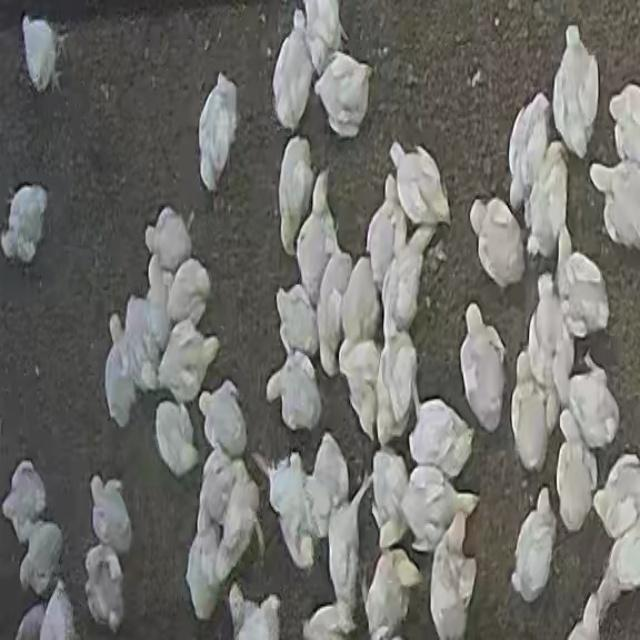chicken: (264, 450, 320, 568), (554, 25, 600, 156), (458, 304, 504, 434), (428, 510, 474, 640), (398, 465, 463, 554), (154, 316, 218, 406), (324, 479, 364, 622), (196, 69, 241, 195), (406, 397, 472, 482), (380, 227, 432, 333), (389, 140, 450, 230), (214, 465, 260, 583), (295, 168, 338, 294), (565, 351, 619, 451), (362, 547, 419, 640), (512, 487, 557, 602), (554, 408, 595, 532), (316, 245, 354, 378), (270, 10, 311, 130), (559, 242, 609, 340), (314, 54, 372, 138), (265, 350, 321, 436), (509, 93, 550, 210), (470, 199, 524, 287), (376, 332, 419, 442), (527, 143, 566, 260), (531, 263, 568, 386), (308, 433, 349, 543), (338, 257, 378, 367), (511, 356, 549, 471), (591, 160, 640, 249), (339, 339, 382, 439), (278, 136, 314, 254), (197, 380, 248, 462), (366, 175, 403, 287), (592, 454, 639, 542), (0, 182, 49, 266), (1, 460, 49, 544), (370, 449, 410, 542), (88, 474, 132, 558), (274, 284, 321, 362), (83, 547, 126, 632), (154, 400, 200, 479), (18, 521, 64, 600), (125, 294, 162, 390), (186, 512, 218, 622), (195, 444, 234, 532), (165, 256, 212, 328), (146, 204, 192, 273), (21, 16, 60, 95), (598, 531, 640, 604), (228, 583, 282, 638), (304, 0, 343, 75), (105, 313, 130, 427), (610, 83, 640, 162), (37, 582, 77, 640), (568, 594, 601, 640)
